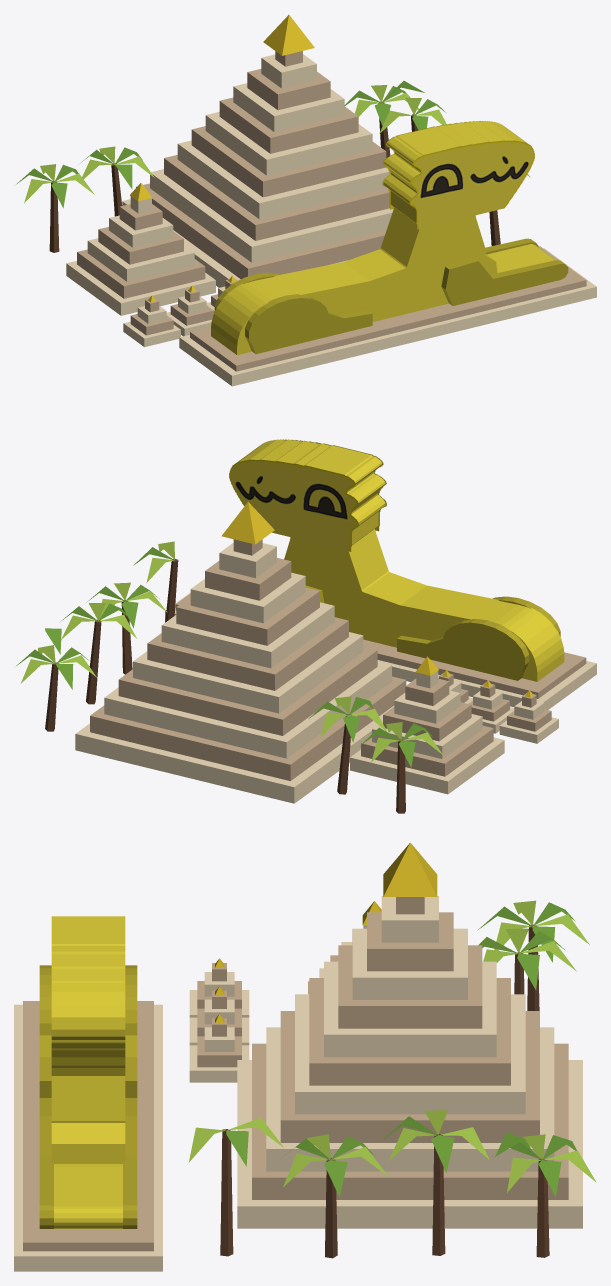
The model's file is garden.glb.
The picture shows the model from 3 angles, top to bottom: view 1: azimuth 30°, elevation 25°; view 2: azimuth 150°, elevation 25°; view 3: azimuth 270°, elevation 25°; orthographic projection. The views are drawn at different scales.
Parts seen in each view (by area): view 1: gdn_pyramids, gdn_sphinx, gdn_sphinx_plinth, gdn_sphinx_face, gdn_palms; view 2: gdn_pyramids, gdn_sphinx, gdn_palms, gdn_sphinx_face, gdn_sphinx_plinth; view 3: gdn_pyramids, gdn_sphinx, gdn_sphinx_plinth, gdn_palms.
Part boxes in pixels (left/top/right/bottom): gdn_pyramids: left=66, top=15, right=393, bottom=347; gdn_sphinx: left=211, top=121, right=568, bottom=355; gdn_sphinx_plinth: left=179, top=246, right=596, bottom=386; gdn_sphinx_face: left=382, top=121, right=534, bottom=229; gdn_palms: left=14, top=81, right=530, bottom=252; gdn_pyramids: left=75, top=502, right=558, bottom=803; gdn_sphinx: left=232, top=440, right=564, bottom=681; gdn_palms: left=16, top=541, right=442, bottom=813; gdn_sphinx_face: left=229, top=439, right=386, bottom=551; gdn_sphinx_plinth: left=165, top=592, right=596, bottom=709; gdn_pyramids: left=189, top=842, right=582, bottom=1228; gdn_sphinx: left=39, top=916, right=137, bottom=1228; gdn_sphinx_plinth: left=14, top=1001, right=162, bottom=1271; gdn_palms: left=188, top=900, right=596, bottom=1258.
Bounding box in the file's own units: 3.6 × 1.86 × 3.13.
9 materials, 1 textured.
